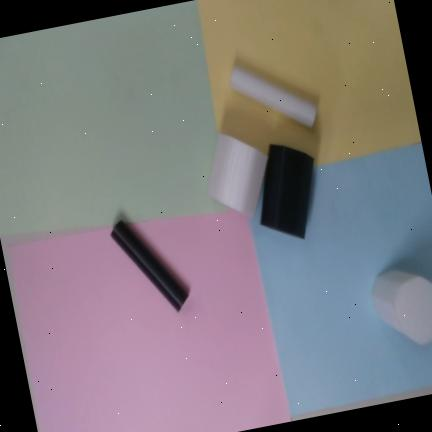Cilindro: (110, 220, 189, 312), (229, 65, 316, 128)
Prisma_hexagonal: (207, 133, 268, 220), (260, 144, 314, 240), (371, 269, 432, 345)
